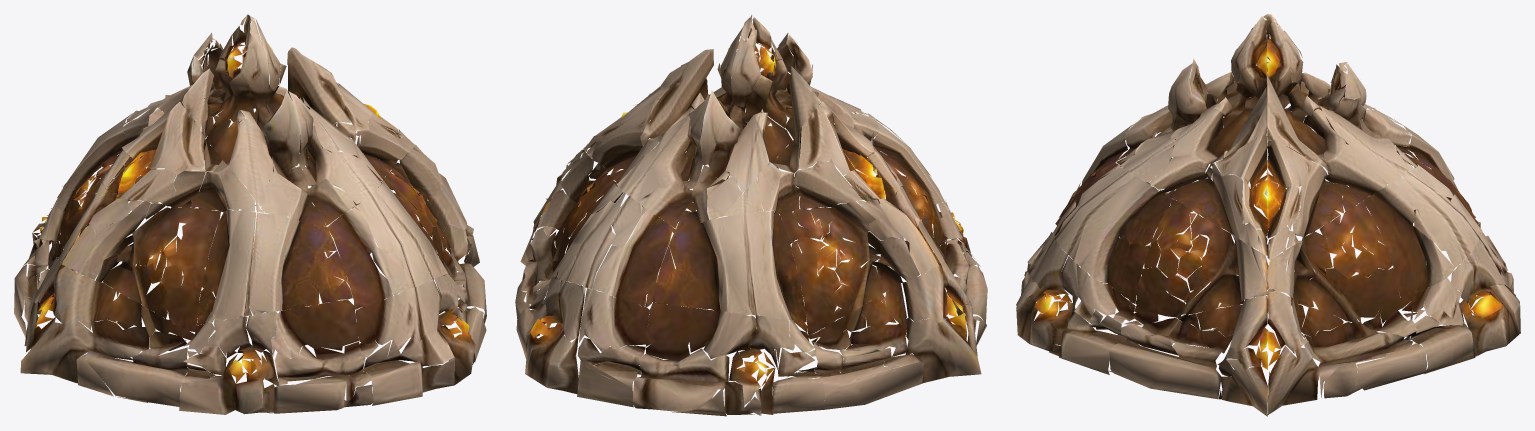
File: zeynep-7-tier-1.glb
The picture shows the model from 3 angles, left to right: view 1: azimuth 30°, elevation 25°; view 2: azimuth 150°, elevation 25°; view 3: azimuth 270°, elevation 25°; orthographic projection. The views are drawn at different scales.
Visible parts, largest first — view 1: moving-assembly, fixed-platform; view 2: moving-assembly, fixed-platform; view 3: moving-assembly, fixed-platform.
Part boxes in pixels (bbox=[...]): moving-assembly: bbox=[34, 14, 466, 360]; fixed-platform: bbox=[14, 175, 486, 414]; moving-assembly: bbox=[528, 15, 970, 362]; fixed-platform: bbox=[515, 177, 987, 416]; moving-assembly: bbox=[1029, 14, 1505, 353]; fixed-platform: bbox=[1016, 185, 1520, 416].
Size of the model in its own units: 1.61 by 1.02 by 1.58.
Materials: 2 (2 with a texture image).
